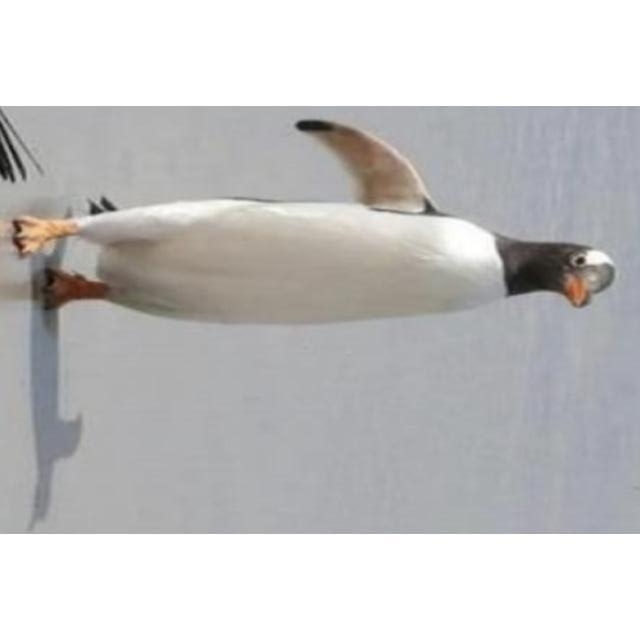penguin: (12, 119, 616, 325)
